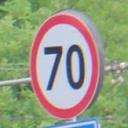speed_limit_70: (28, 11, 102, 120)
